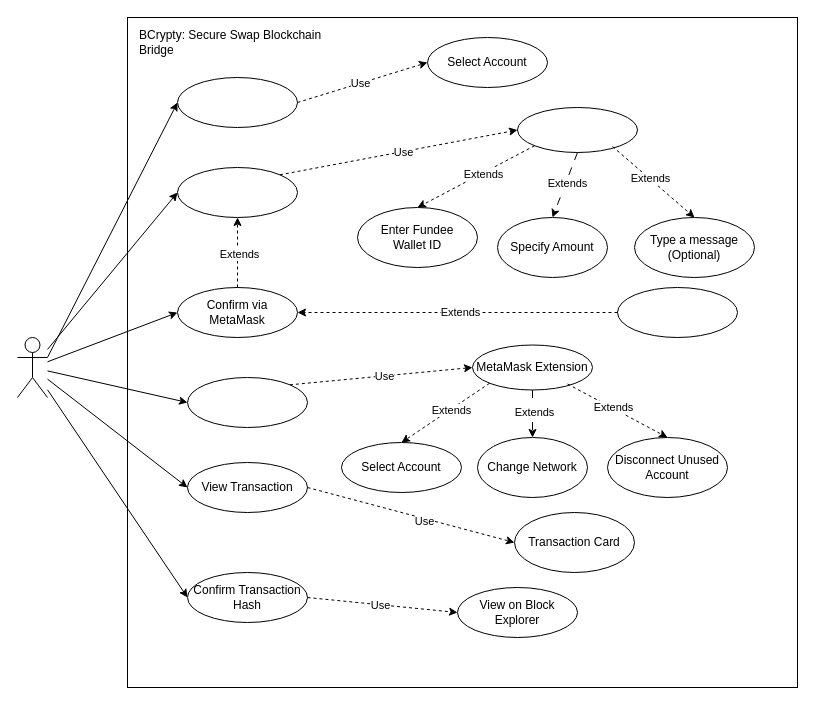
Some shapes in this 815 by 705 pixel diagram are drawn without their labels. Each missing label, with the centre of its shape:
Change Connected Wallet: [247,402]
Connect MetaMask Wallet: [237,102]
Enter Transaction Details: [577,129]
Initiate Transaction: [237,192]
MetaMask Confirmation Notification: [677,312]
User: [32,367]
